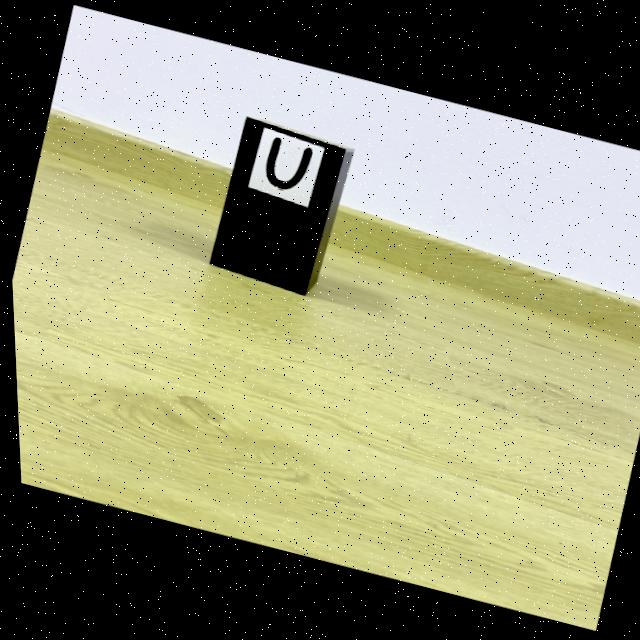U: (263, 138, 310, 191)
